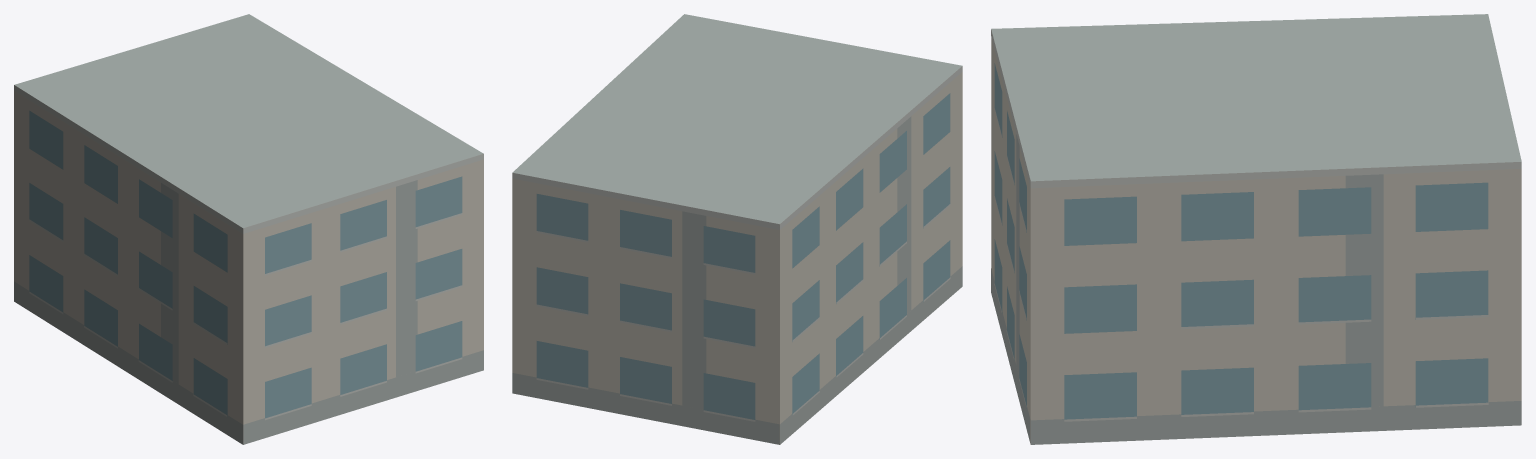
The model's file is survey-upis-32461674.glb.
3 renders of one model, left to right at view 1: azimuth 30°, elevation 25°; view 2: azimuth 150°, elevation 25°; view 3: azimuth 270°, elevation 25°, orthographic. The views are drawn at different scales.
Parts seen in each view (by area): view 1: survey-upis-32461674.tmp; view 2: survey-upis-32461674.tmp; view 3: survey-upis-32461674.tmp.
Boxes of the visible parts, <box> form: survey-upis-32461674.tmp: <box>14,14,483,444</box>; survey-upis-32461674.tmp: <box>512,14,962,444</box>; survey-upis-32461674.tmp: <box>991,14,1521,444</box>.
Bounding box in the file's own units: 12.47 × 9.15 × 16.71.
